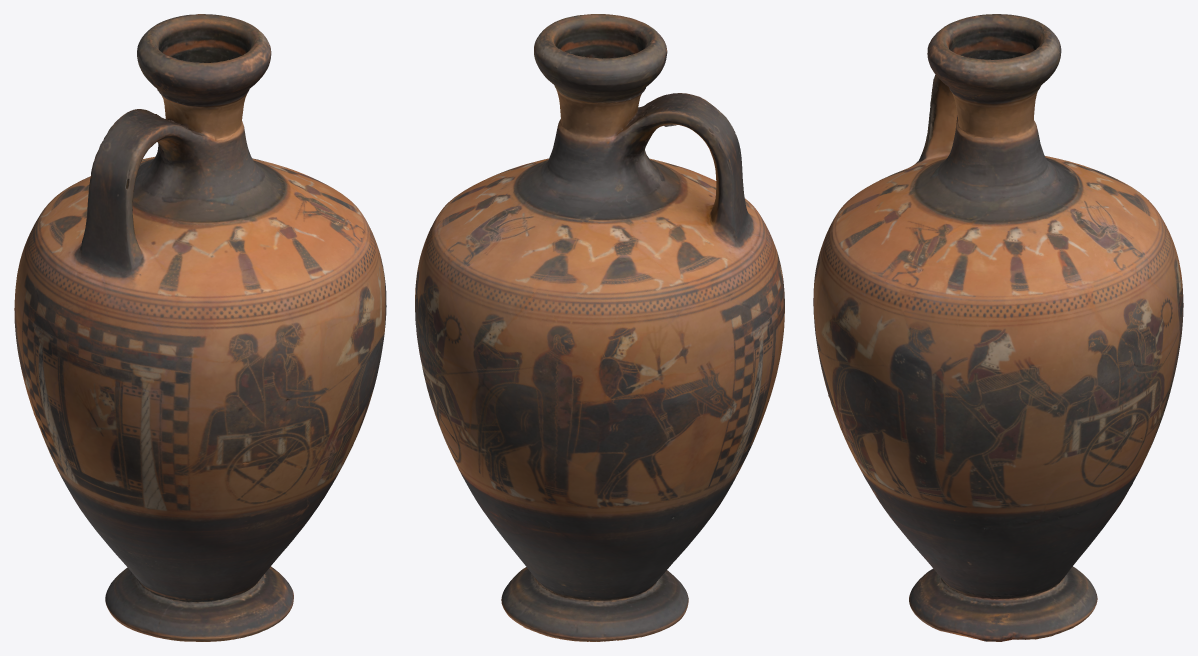
The picture shows the model from 3 angles, left to right: view 1: azimuth 30°, elevation 25°; view 2: azimuth 150°, elevation 25°; view 3: azimuth 270°, elevation 25°; orthographic projection.
Visible parts, largest first — view 1: default_n3d; view 2: default_n3d; view 3: default_n3d.
Part boxes in pixels (x1=…): default_n3d: x1=14, y1=14, x2=386, y2=641; default_n3d: x1=415, y1=14, x2=784, y2=641; default_n3d: x1=813, y1=14, x2=1183, y2=641.
Bounding box in the file's own units: 0.1024 × 0.1731 × 0.1022.
1 material, 1 textured.
